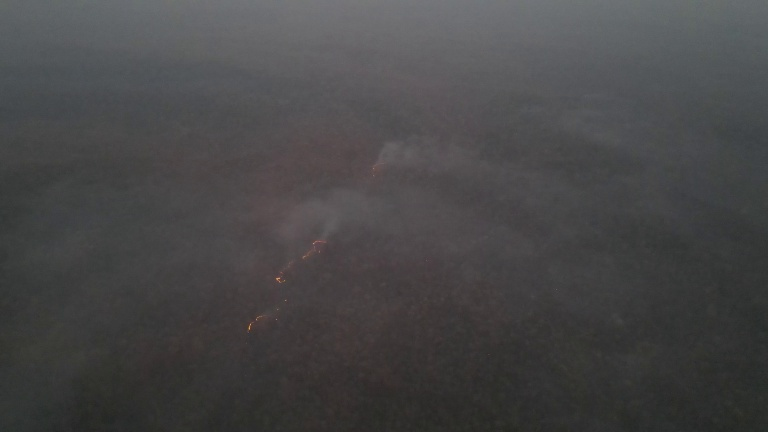fire: (274, 237, 328, 290), (243, 309, 276, 335), (367, 162, 382, 181)
smoke: (294, 189, 403, 244), (378, 137, 450, 175)
